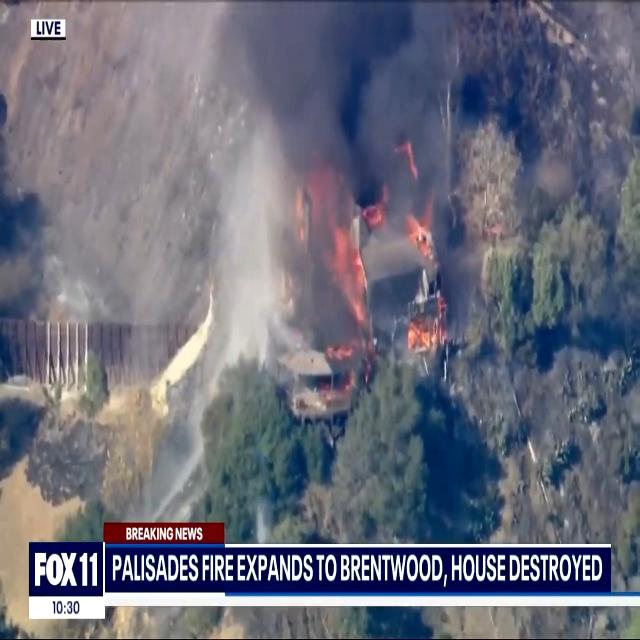no_helmet: (249, 0, 450, 193)
